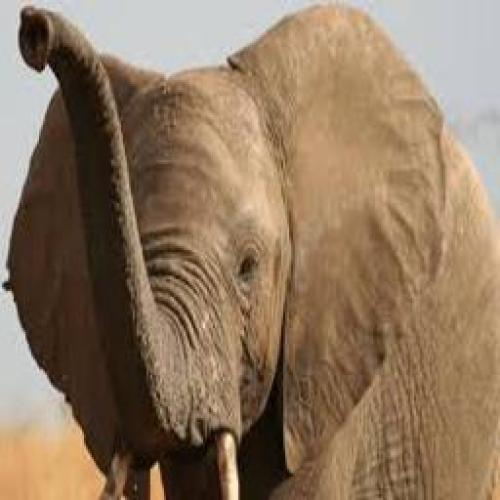african_elephant-endangered: (17, 10, 499, 490)
